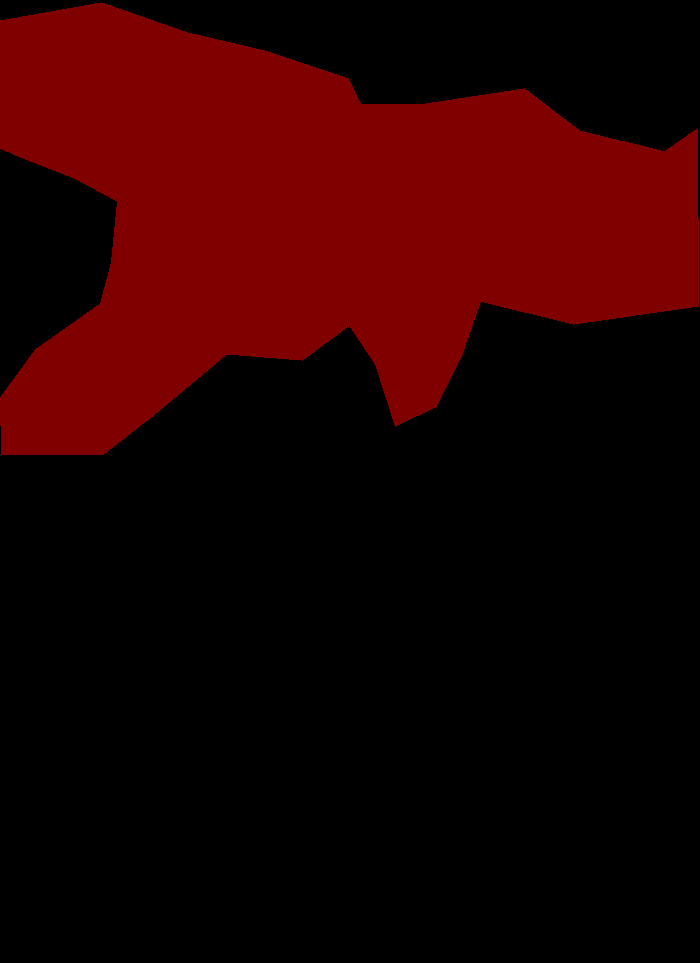fire: (0, 2, 698, 454)
